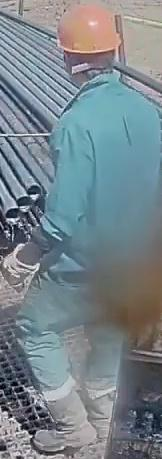gloves: (0, 239, 44, 294)
helmet: (55, 2, 122, 64)
vest: (39, 71, 161, 296)
